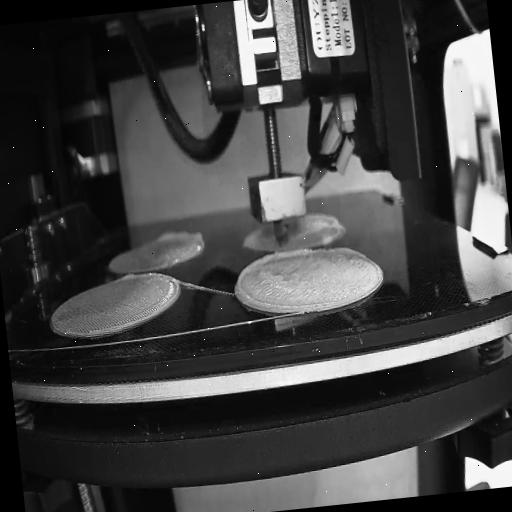over_extrusion: (232, 246, 320, 322), (154, 229, 207, 254), (334, 242, 370, 260), (118, 271, 140, 286)
